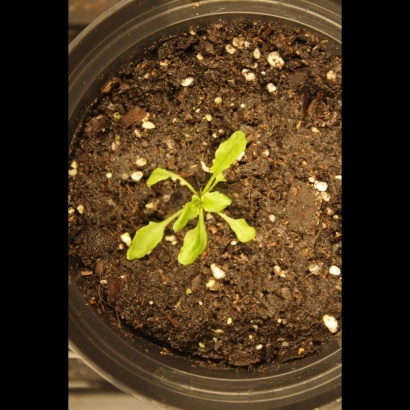leaf: (125, 218, 172, 260), (213, 123, 247, 179), (178, 217, 210, 270), (142, 160, 192, 192), (221, 213, 261, 251), (171, 200, 202, 236), (199, 188, 234, 218), (211, 168, 234, 192)
